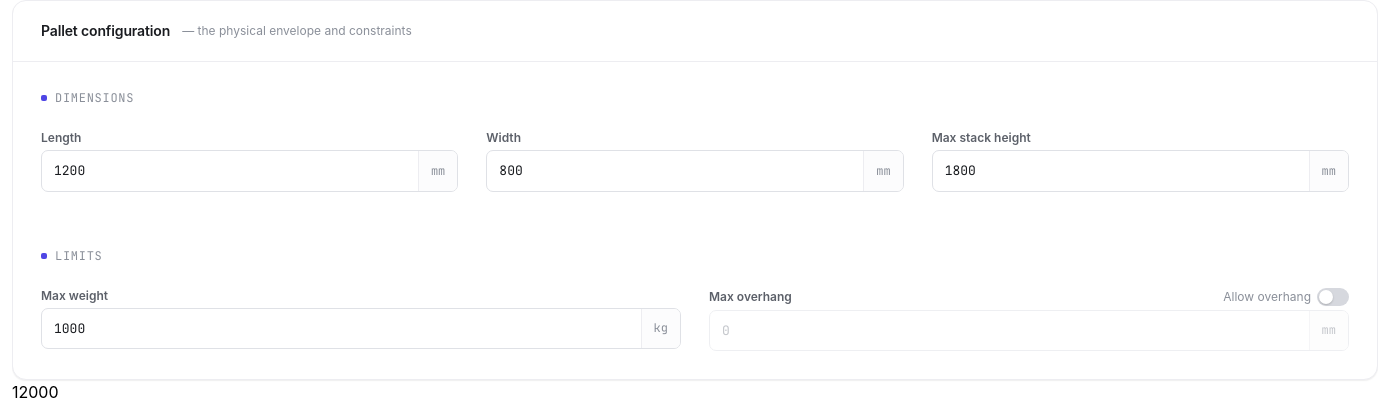
Test: PalletCard — fields render + bind (PALLET-01/02) › editing a dimension field updates the bound form value (register)
Replace the text in the number field labelled "Length" with "1500" at (230, 171), box [42,151,418,190]
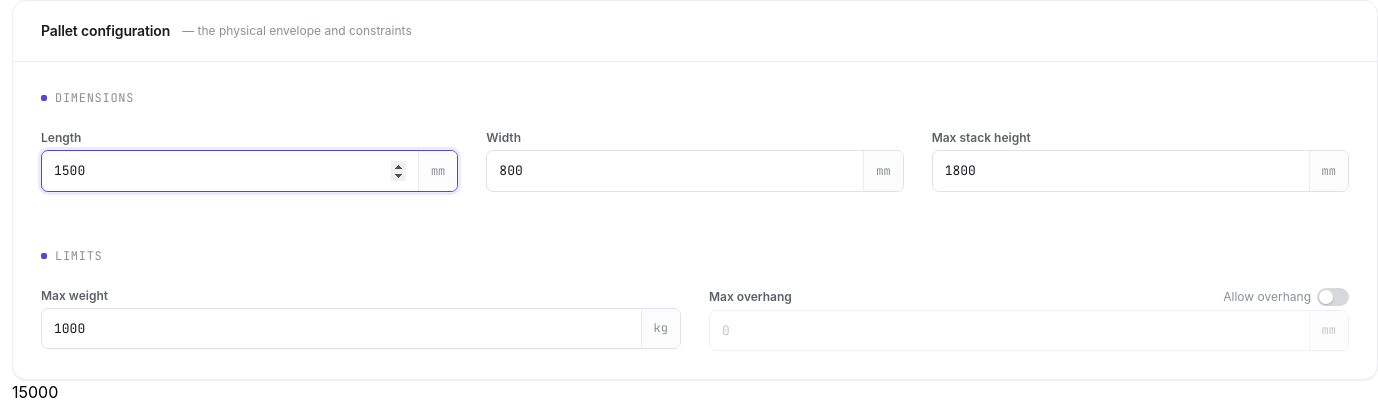
Result: the text with test id "probe-length" reads "1500" at [12,382,48,402]
